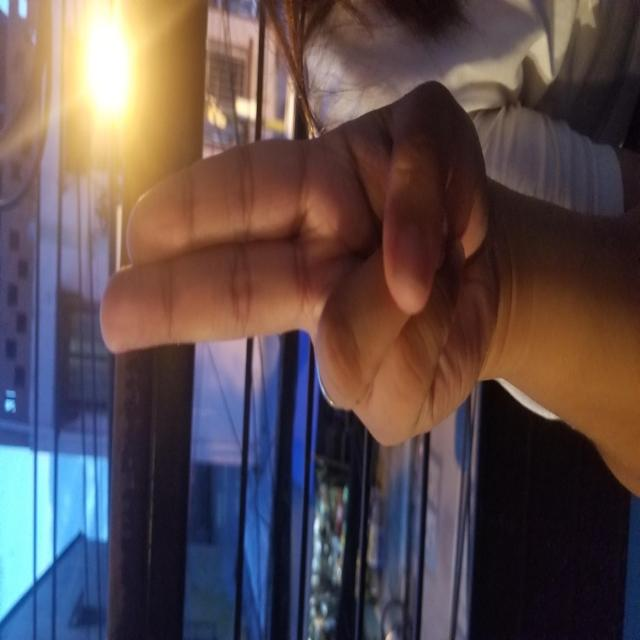U: (186, 96, 560, 496)
